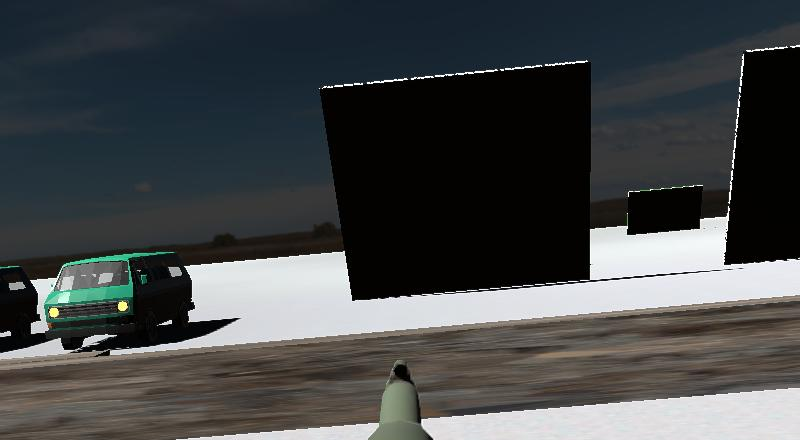House: (701, 31, 800, 287)
car: (41, 243, 211, 356), (0, 260, 42, 357)
